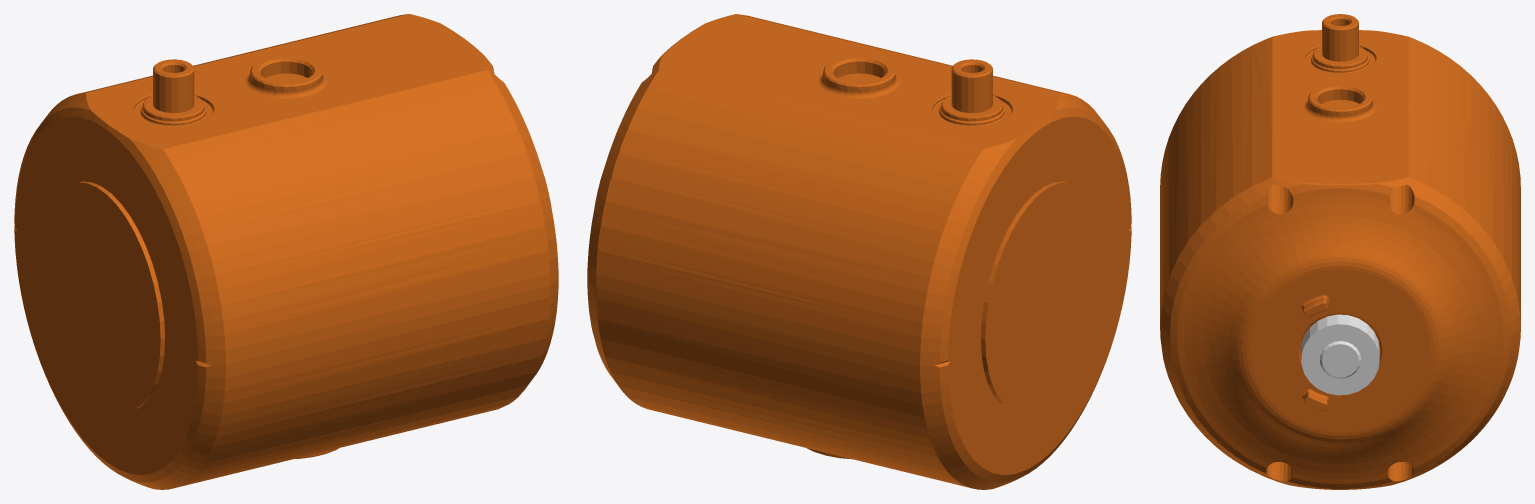
3 views of the same model, side by side, from view 1: azimuth 30°, elevation 25°; view 2: azimuth 150°, elevation 25°; view 3: azimuth 270°, elevation 25° (orthographic). The views are drawn at different scales.
Parts seen in each view (by area): view 1: AR5-5_08L-W4C4A6-ZY2_link6; view 2: AR5-5_08L-W4C4A6-ZY2_link6; view 3: AR5-5_08L-W4C4A6-ZY2_link6.
Boxes of the visible parts, x1=… form: AR5-5_08L-W4C4A6-ZY2_link6: x1=14, y1=14, x2=558, y2=489; AR5-5_08L-W4C4A6-ZY2_link6: x1=587, y1=14, x2=1131, y2=489; AR5-5_08L-W4C4A6-ZY2_link6: x1=1160, y1=14, x2=1520, y2=489.
Size of the model in its own units: 0.0933 by 0.0829 by 0.078.
